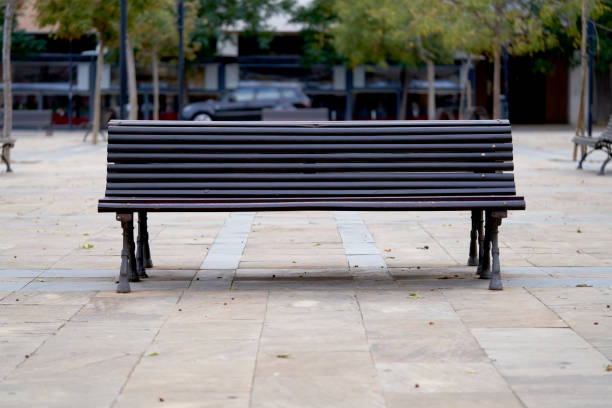Bench: (82, 104, 558, 298)
